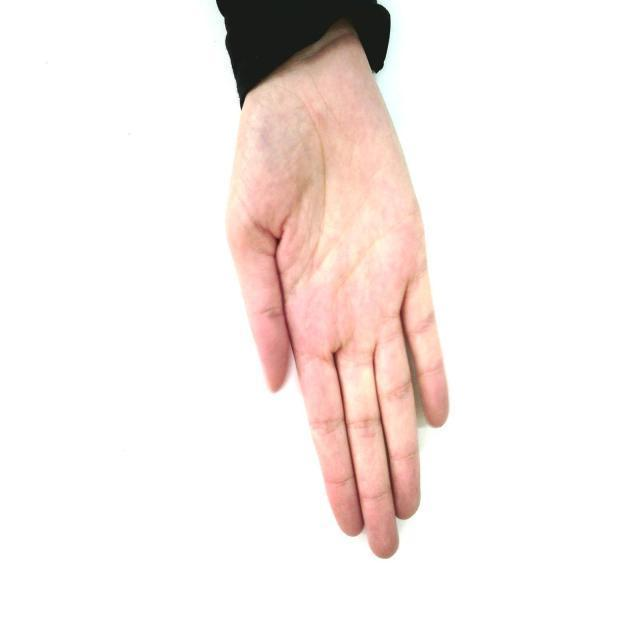hand: (224, 18, 450, 559)
